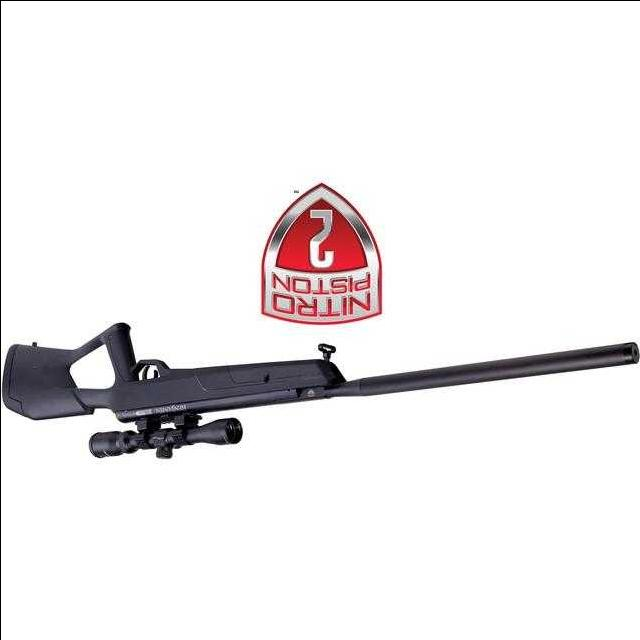heavyweapon: (7, 281, 640, 479)
